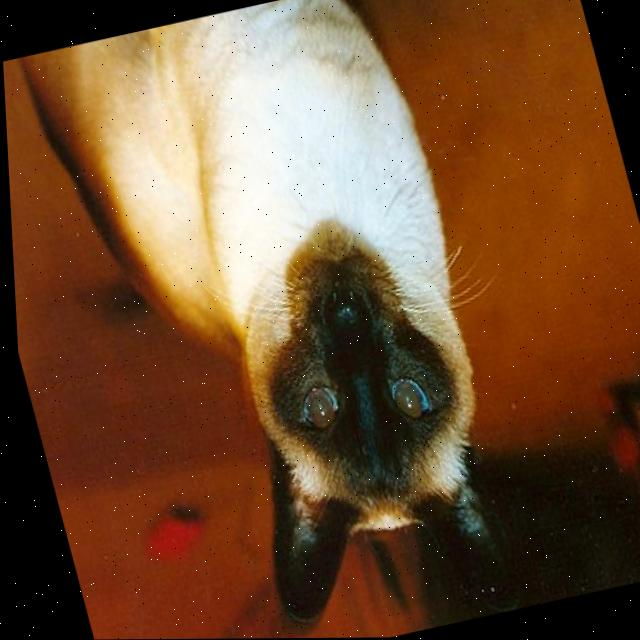Siamese: (12, 0, 545, 640)
